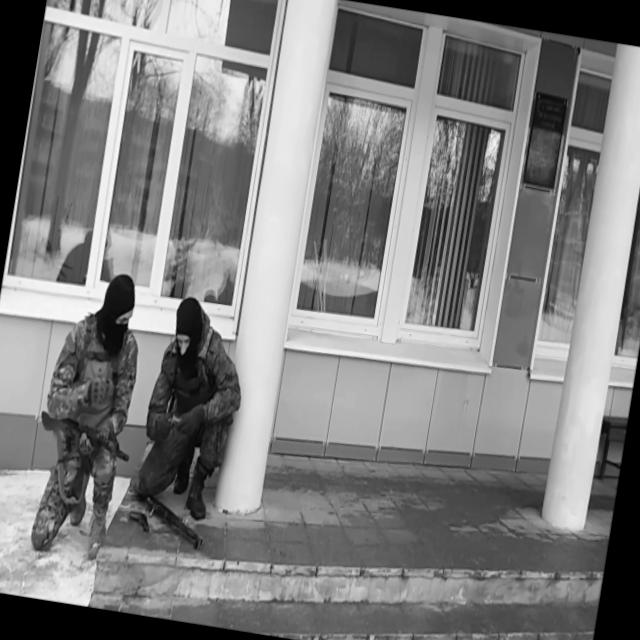gun: (32, 408, 136, 482), (121, 472, 214, 552), (126, 508, 154, 536)
person with a gun: (19, 264, 160, 564), (130, 293, 256, 527)
